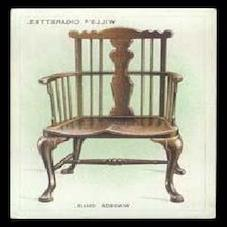chair: (27, 18, 197, 206)
